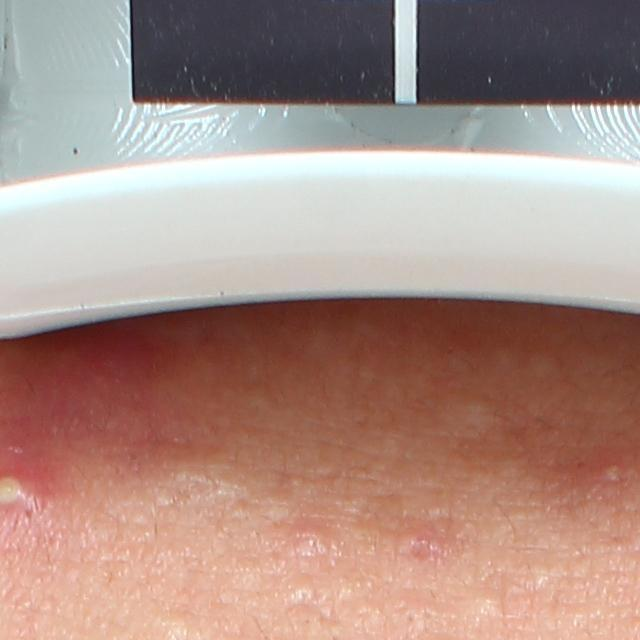comedo: (451, 393, 498, 437), (471, 591, 503, 621)
papule: (282, 520, 335, 572)
